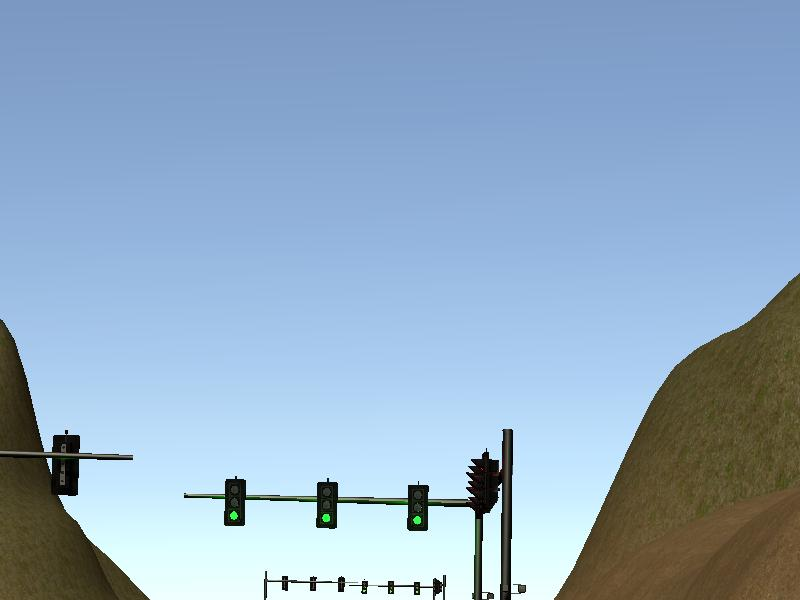Green: (225, 479, 245, 525), (408, 486, 428, 532), (319, 482, 337, 529)
